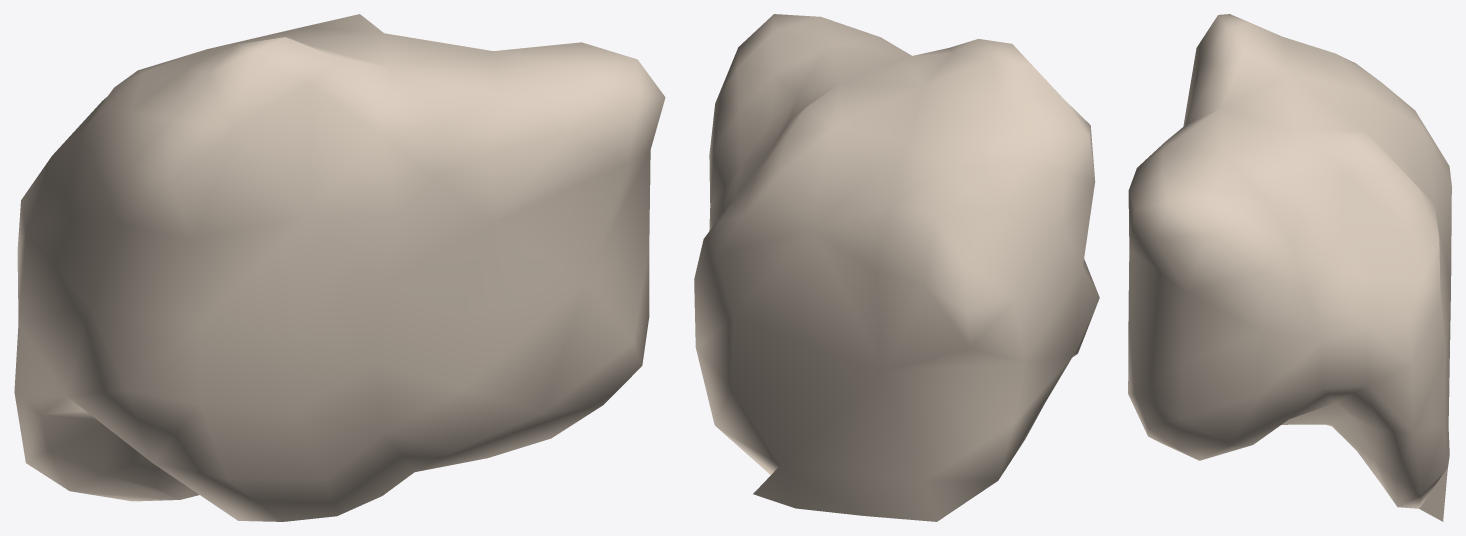
File: spl-84.glb
3 views of the same model, side by side, from view 1: azimuth 30°, elevation 25°; view 2: azimuth 150°, elevation 25°; view 3: azimuth 270°, elevation 25° (orthographic). The views are drawn at different scales.
Parts seen in each view (by area): view 1: spl-84; view 2: spl-84; view 3: spl-84.
Boxes of the visible parts, left/top/right/bottom form: spl-84: left=14, top=14, right=665, bottom=521; spl-84: left=694, top=14, right=1099, bottom=521; spl-84: left=1128, top=14, right=1451, bottom=521.
Size of the model in its own units: 7.27 by 7.54 by 5.09.
